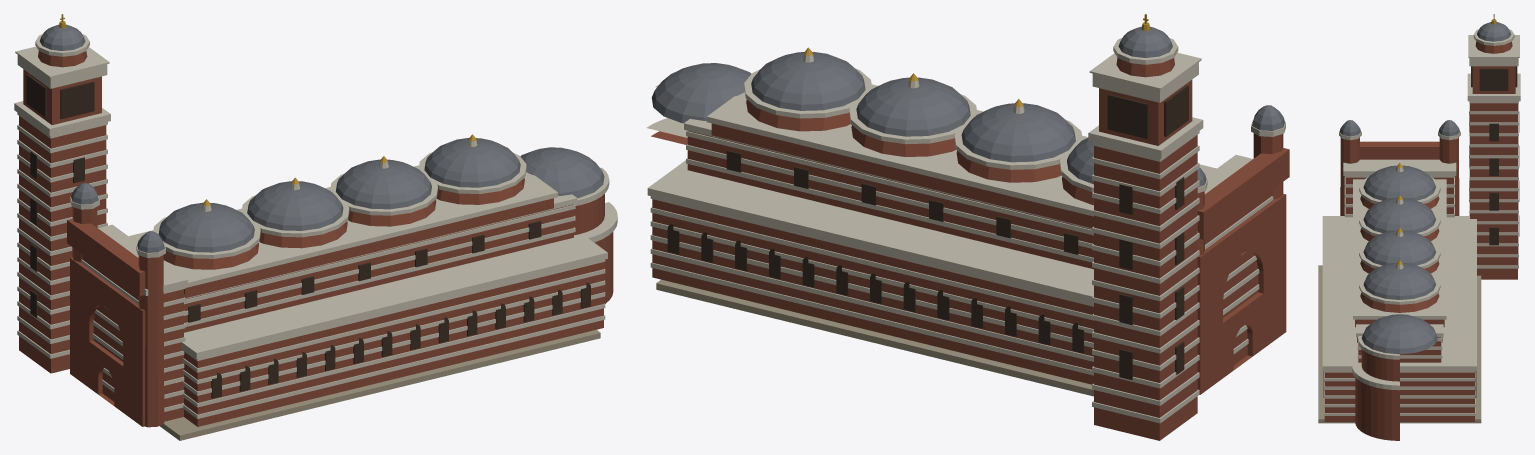
The model's file is westminster_cathedral.glb.
The picture shows the model from 3 angles, left to right: view 1: azimuth 30°, elevation 25°; view 2: azimuth 150°, elevation 25°; view 3: azimuth 270°, elevation 25°; orthographic projection. The views are drawn at different scales.
Visible parts, largest first — view 1: westminster_cathedral; view 2: westminster_cathedral; view 3: westminster_cathedral.
Part boxes in pixels (x1,y1,x2,y2): westminster_cathedral: [14, 14, 617, 440]; westminster_cathedral: [646, 14, 1289, 440]; westminster_cathedral: [1318, 14, 1520, 440].
Bounding box in the file's own units: 139 × 88.2 × 63.3.
